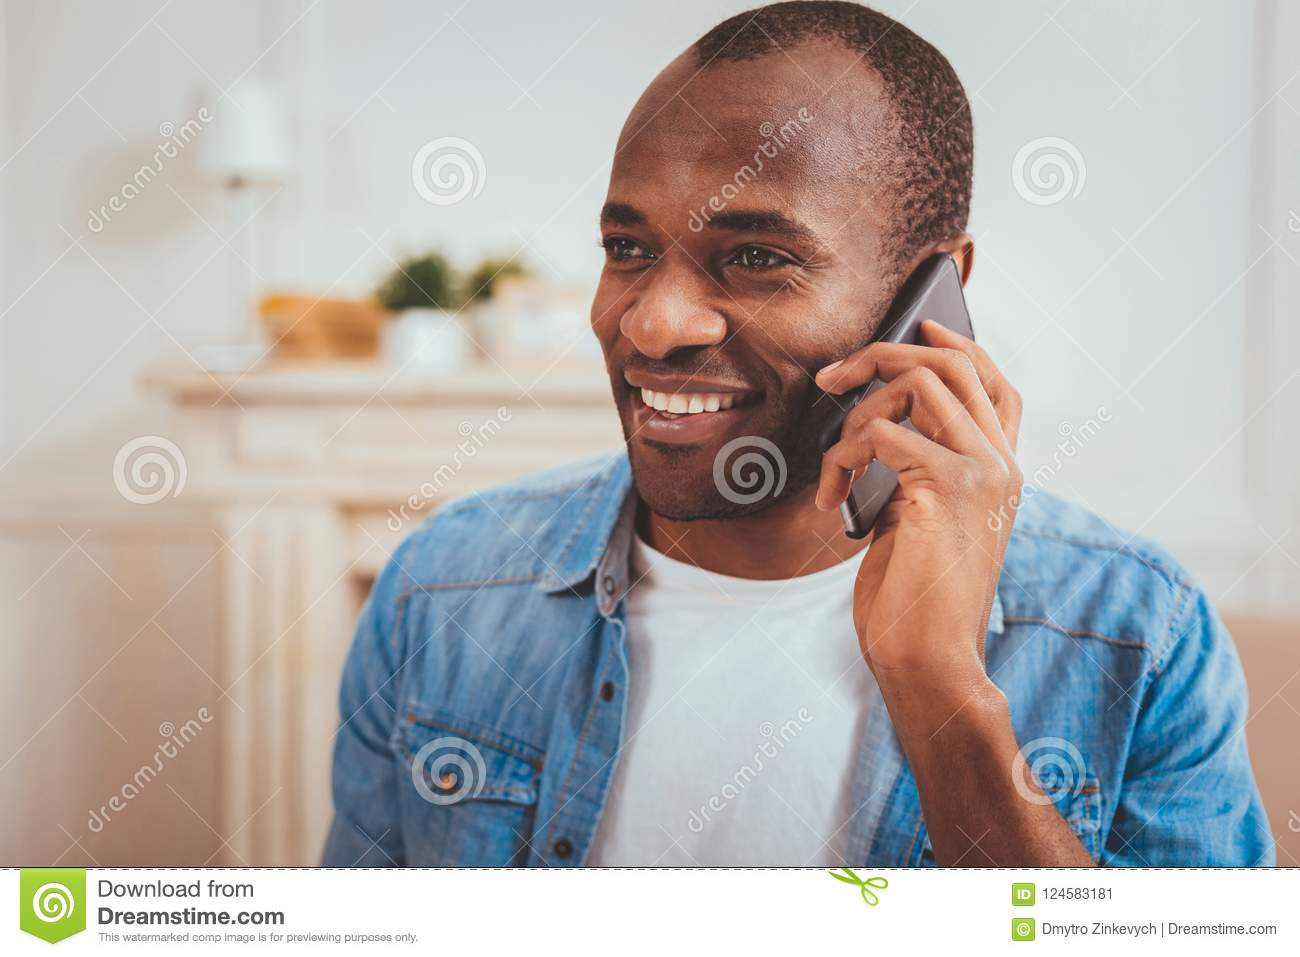phone: (822, 254, 982, 553)
talk: (586, 189, 1030, 727)
